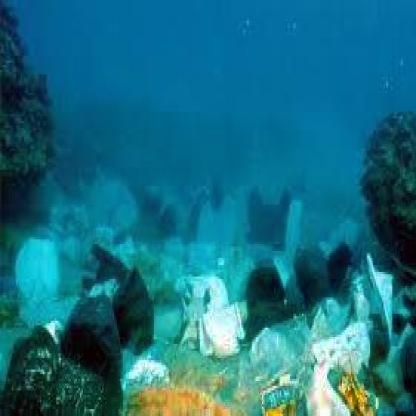pbag: (1, 188, 414, 416)
